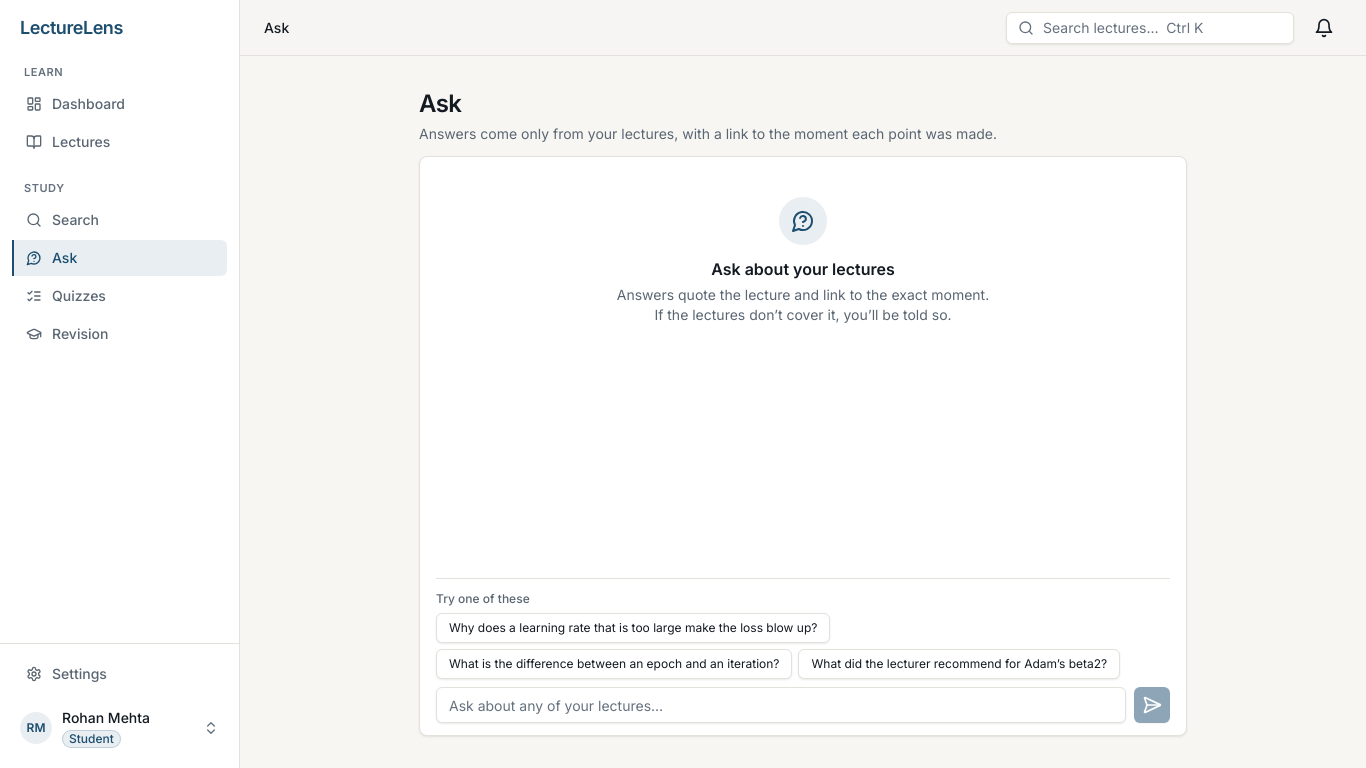
Ask — grounded answers and abstention › a 501 renders the calm notImplemented state in the thread
In the field named "Your question": (781, 705) [436,687,1126,723], type "Why does a learning rate that is too large make the loss blow up?"
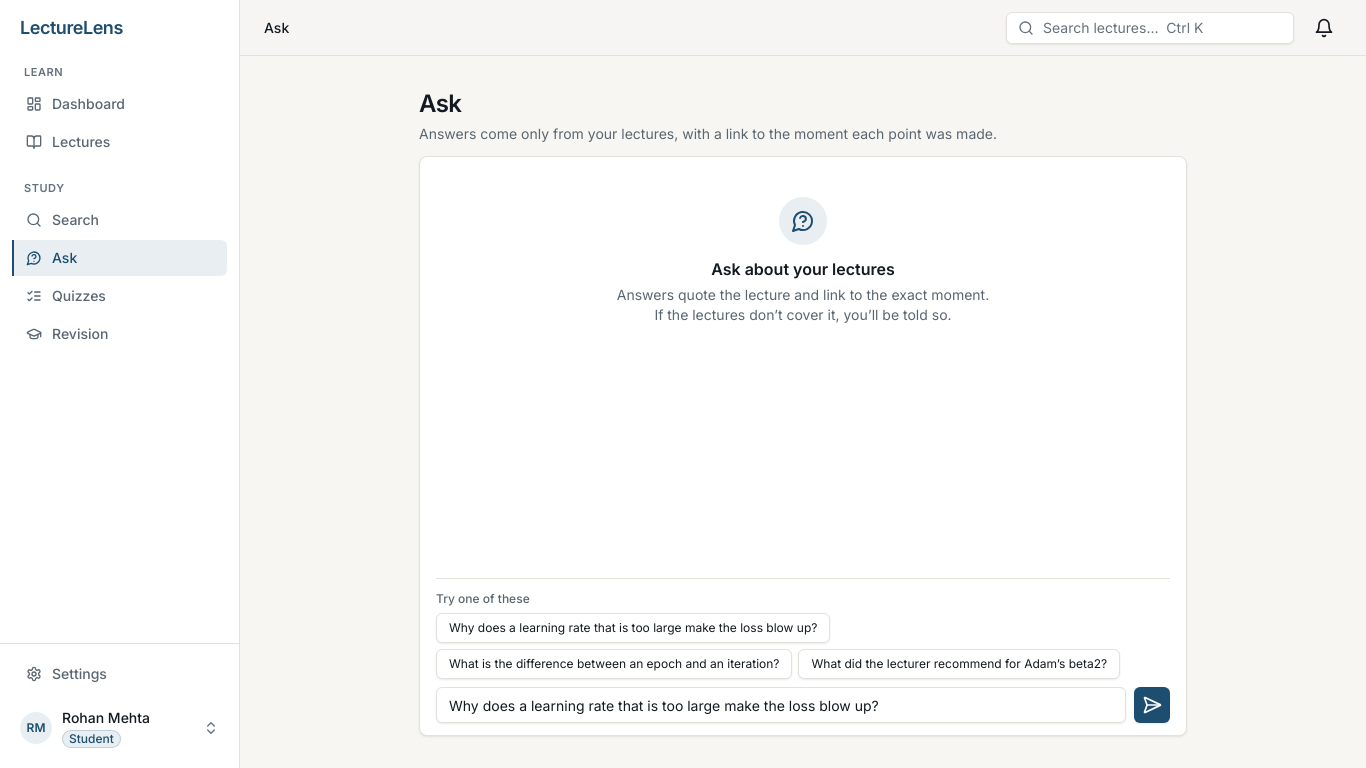
Submit the form named "Your question", box [436,578,1170,735]
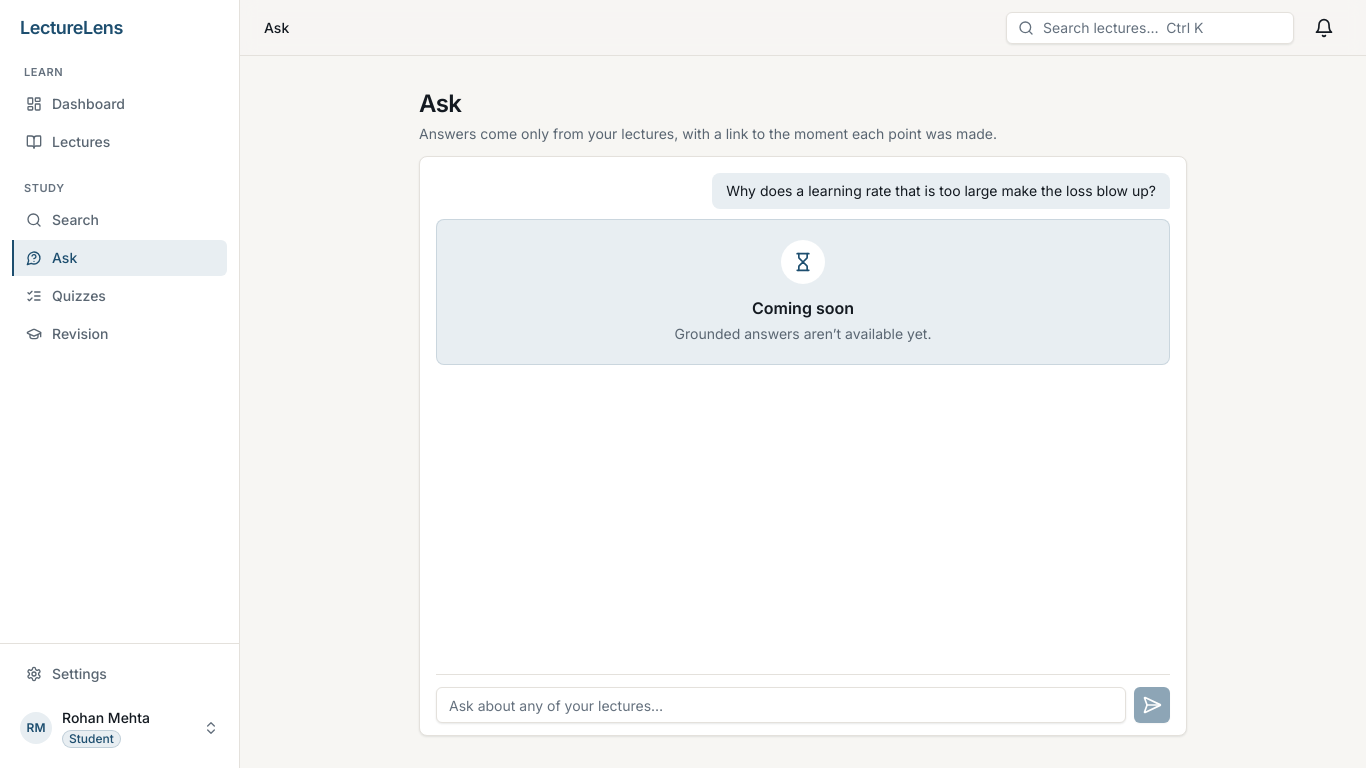
Expected: the text "Grounded answers aren’t available yet." is shown, [674,324,932,344]
